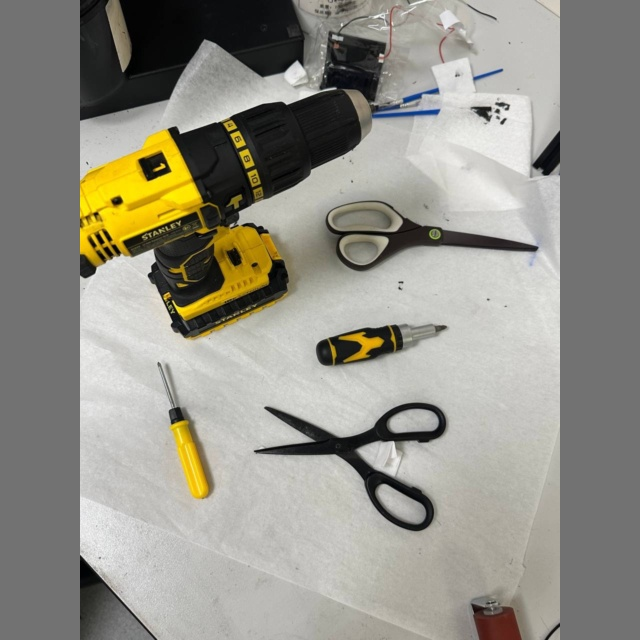drill: (80, 90, 371, 338)
scissor: (255, 403, 446, 532), (326, 201, 538, 270)
screwdriver: (157, 362, 209, 499), (316, 324, 446, 366)
